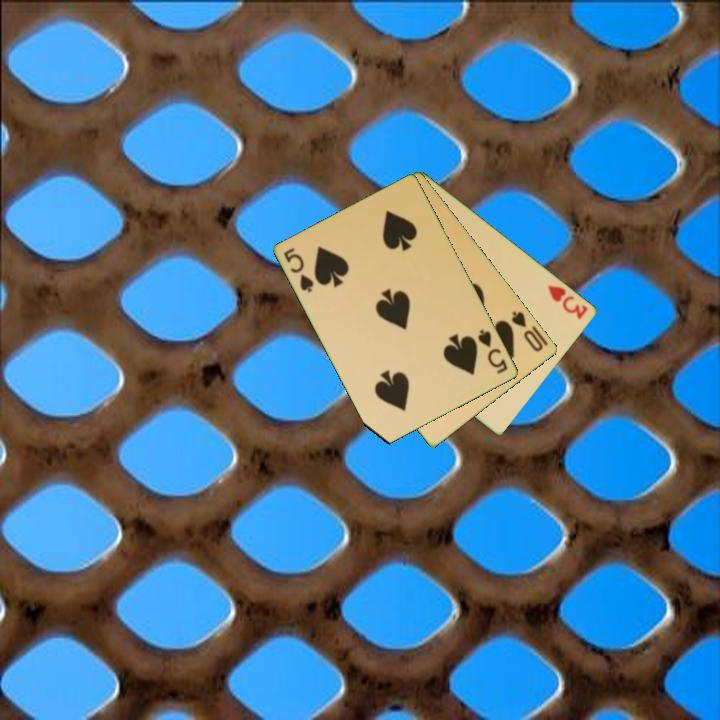10s: (508, 307, 547, 355)
3h: (544, 281, 591, 322)
5s: (474, 326, 511, 377), (280, 244, 317, 295)
